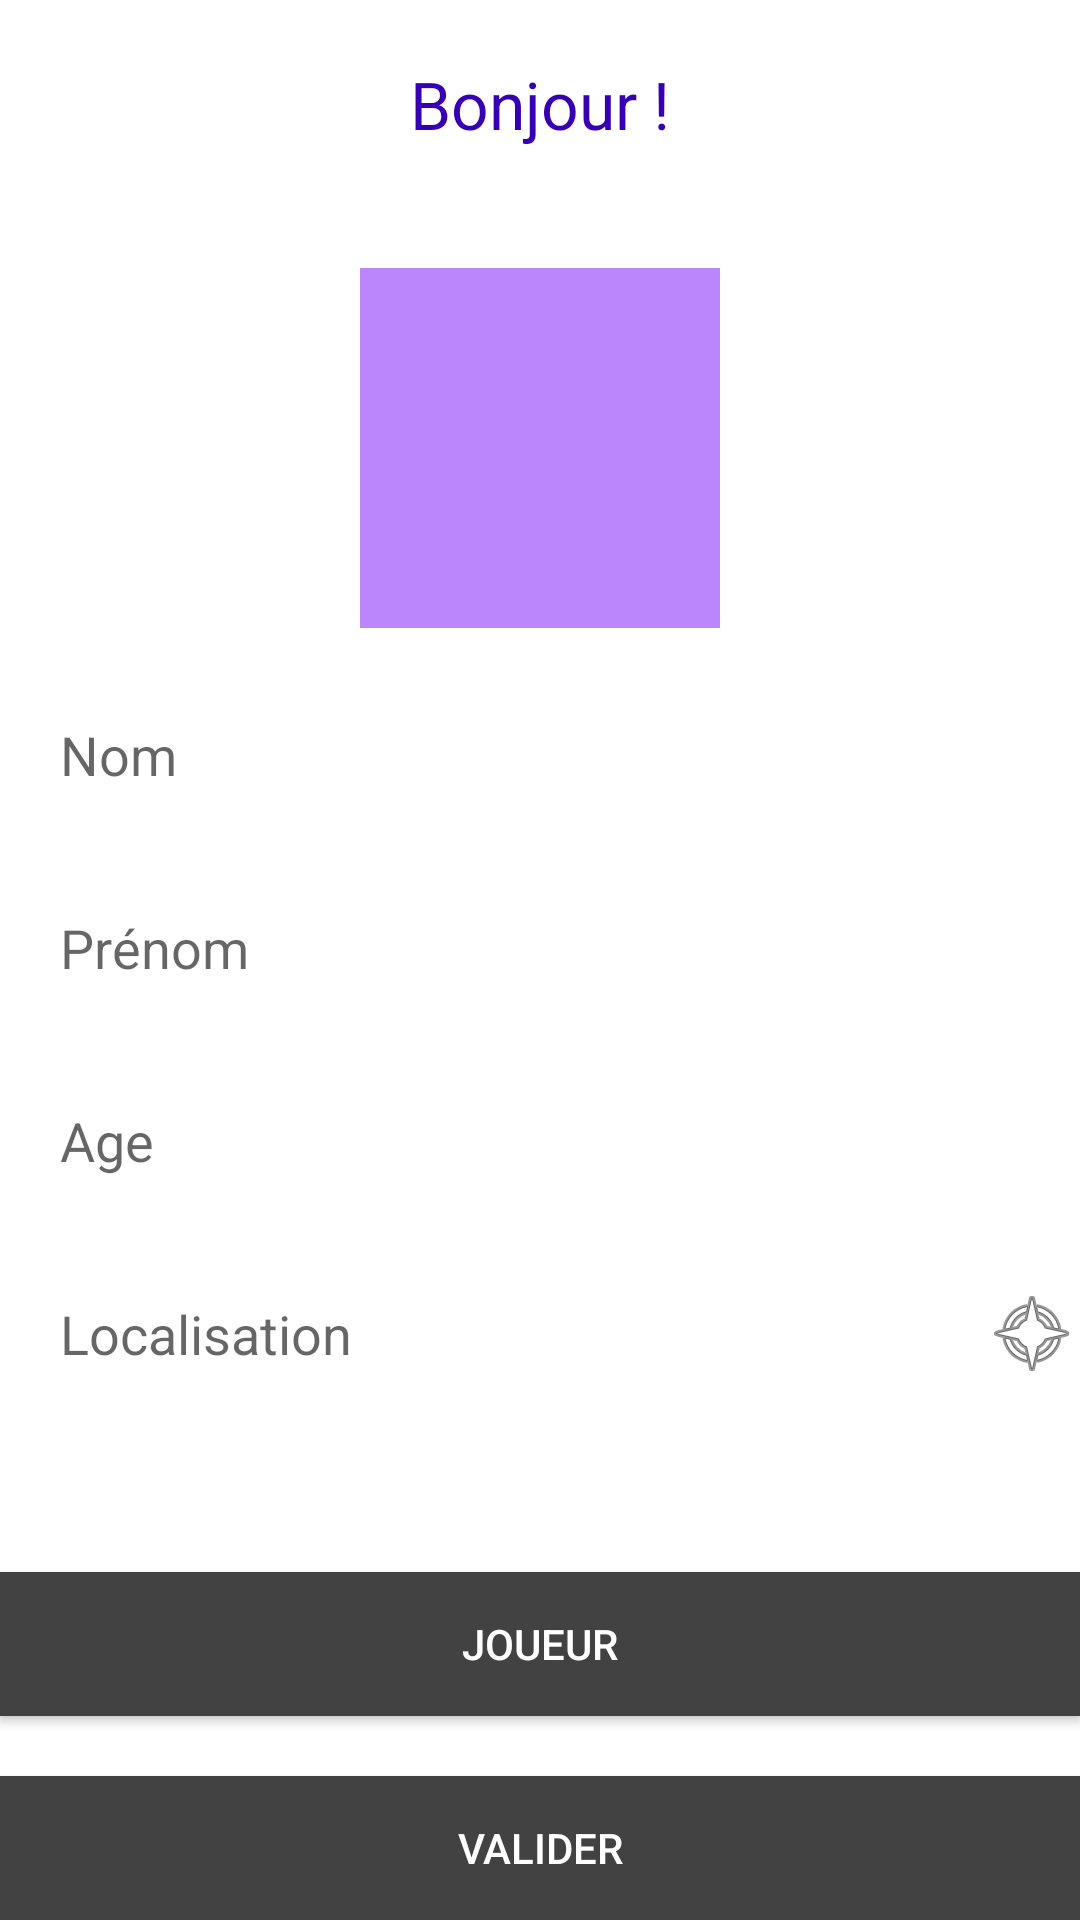

Named icons in this screenshot (1080px x 1920px) and their bounding boxes, (x1,y1,x2,y2):
compass: (994,1296,1070,1371)
